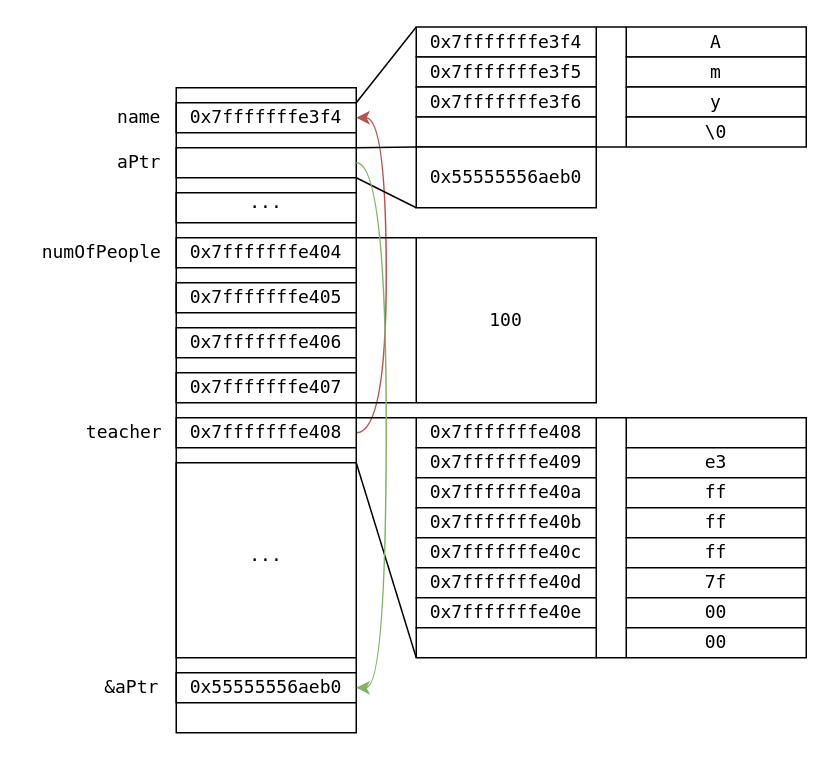
The diagram is 833 pixels wide and 759 high, and some of its shapes have lost their labels. The box of each missing label's shape, as (x1, y1, x2, y2) in pixels:
0x7fffffffe3f7: (415, 116, 596, 147)
0x7fffffffe3f8: (175, 146, 356, 178)
0x7fffffffe40f: (415, 626, 596, 658)
f4: (625, 416, 806, 448)
